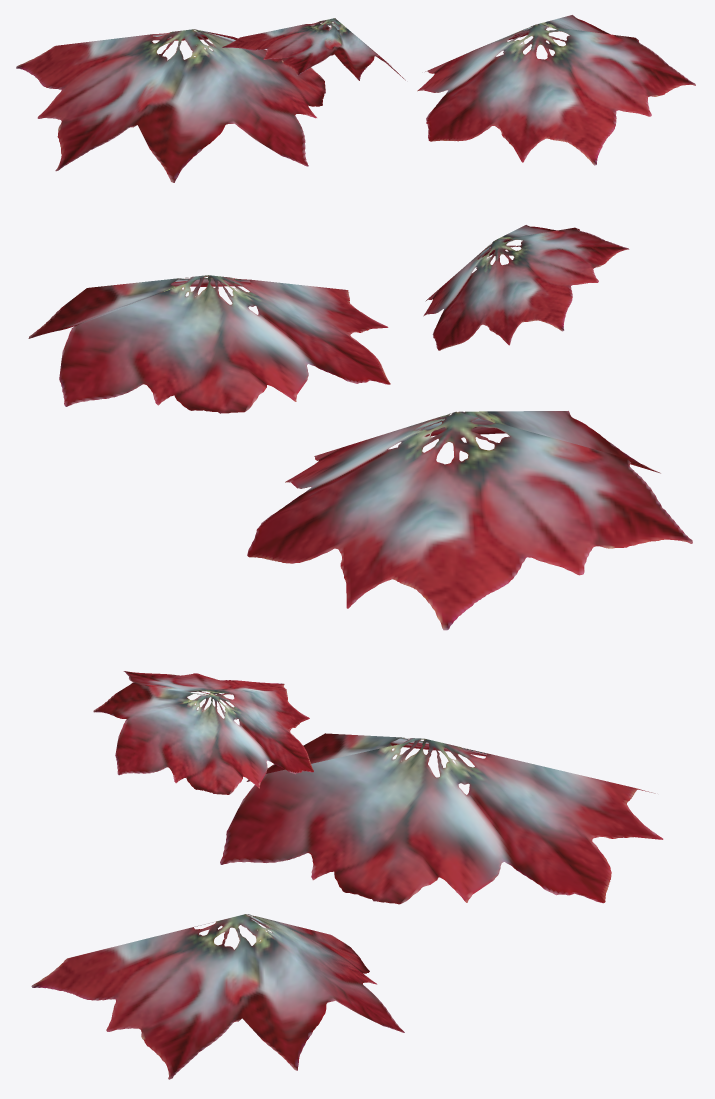
The model's file is grass16.fbx.
The picture shows the model from 3 angles, top to bottom: view 1: azimuth 30°, elevation 25°; view 2: azimuth 150°, elevation 25°; view 3: azimuth 270°, elevation 25°; orthographic projection. The views are drawn at different scales.
Visible parts, largest first — view 1: grass16; view 2: grass16; view 3: grass16.
Boxes of the visible parts, box(x1,y1,x2,y2) form: grass16: box(16, 15, 695, 182); grass16: box(28, 225, 692, 630); grass16: box(31, 671, 663, 1079).
Bounding box in the file's own units: 555 × 135 × 463.
1 material, 1 textured.
